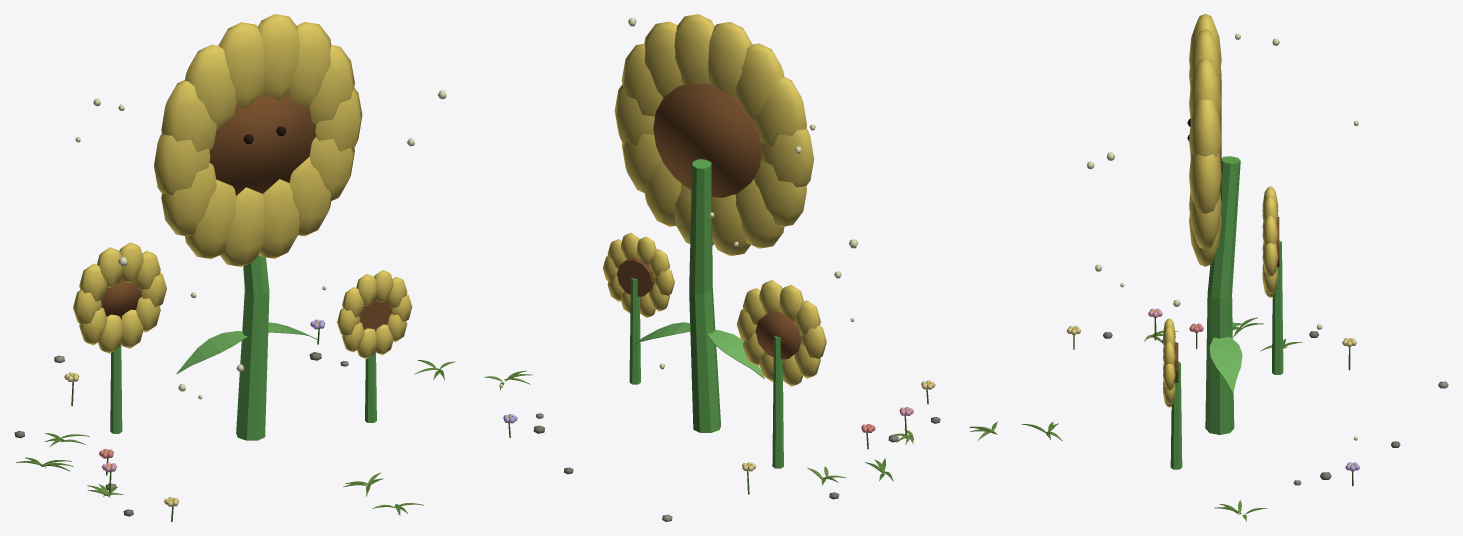
The model's file is gym_deco_sun_lite.glb.
The picture shows the model from 3 angles, left to right: view 1: azimuth 30°, elevation 25°; view 2: azimuth 150°, elevation 25°; view 3: azimuth 270°, elevation 25°; orthographic projection. The views are drawn at different scales.
Visible parts, largest first — view 1: t; view 2: t; view 3: t.
Part boxes in pixels (left/top/right/bottom): t: left=14, top=14, right=455, bottom=521; t: left=484, top=14, right=940, bottom=521; t: left=969, top=14, right=1448, bottom=521.
Size of the model in its own units: 6.66 by 6.21 by 6.63.
